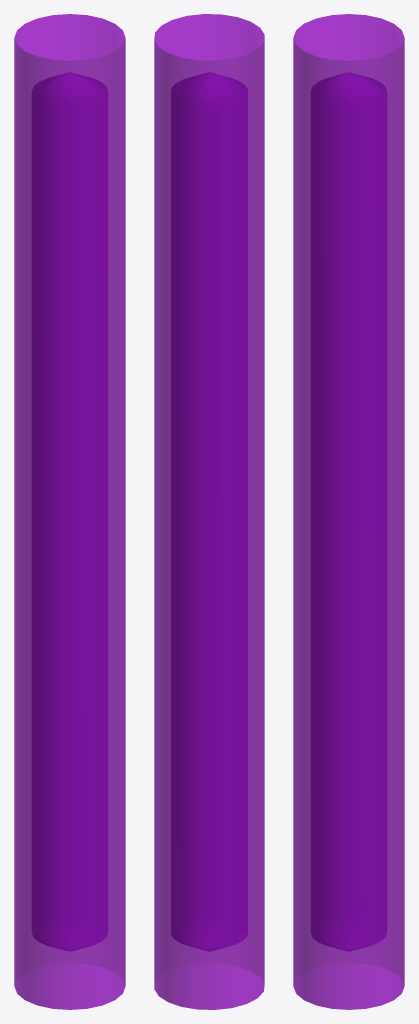
Rendered from GlowStick.fbx.
The picture shows the model from 3 angles, left to right: view 1: azimuth 90°, elevation 25°; view 2: azimuth 150°, elevation 25°; view 3: azimuth 270°, elevation 25°; orthographic projection.
Visible parts, largest first — view 1: polySurface9; view 2: polySurface9; view 3: polySurface9.
Part boxes in pixels (box(x1,y1,x2,y2)): polySurface9: box(14, 14, 125, 1009); polySurface9: box(154, 14, 264, 1009); polySurface9: box(293, 14, 404, 1009).
Size of the model in its own units: 1.48 by 13.97 by 1.48.
